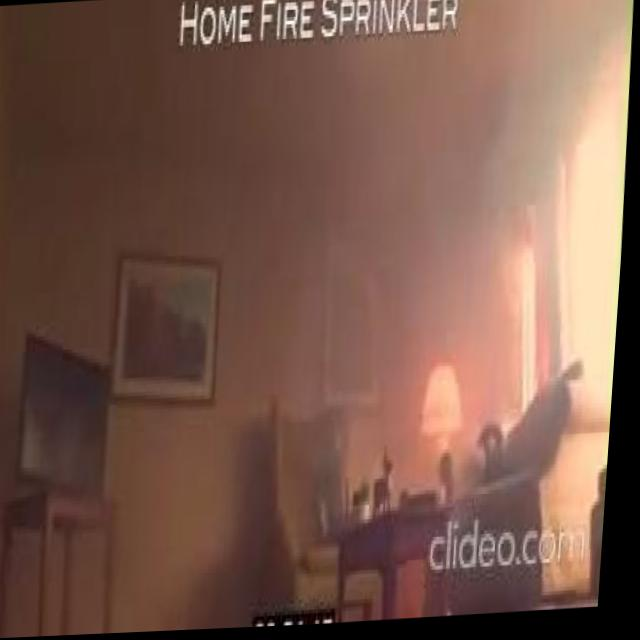fire: (498, 235, 540, 320)
